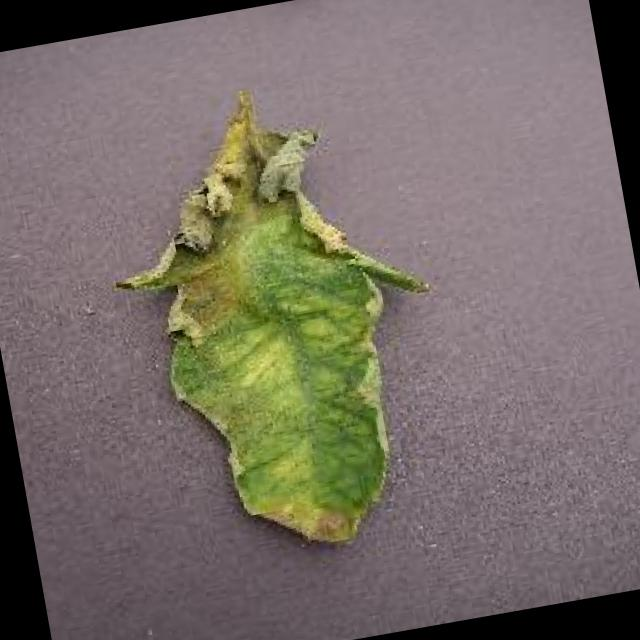Tomato_Late_Blight: (121, 82, 355, 363), (212, 395, 382, 576)
